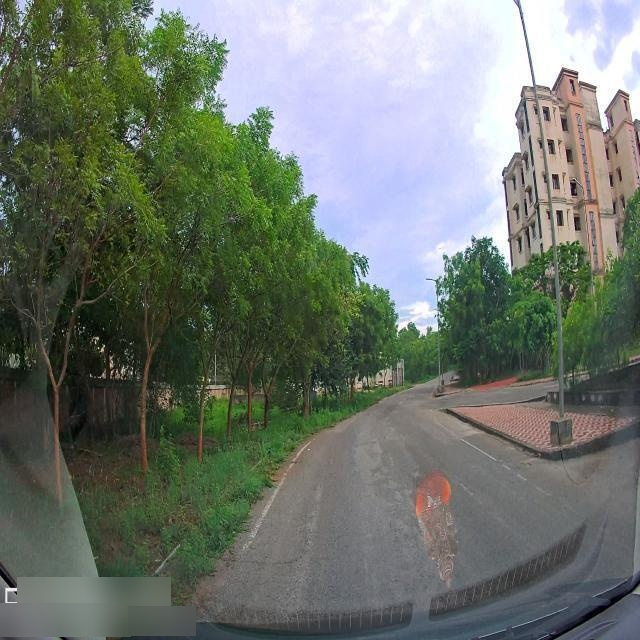pothole: (354, 432, 388, 488), (392, 511, 417, 578), (392, 486, 415, 506)
